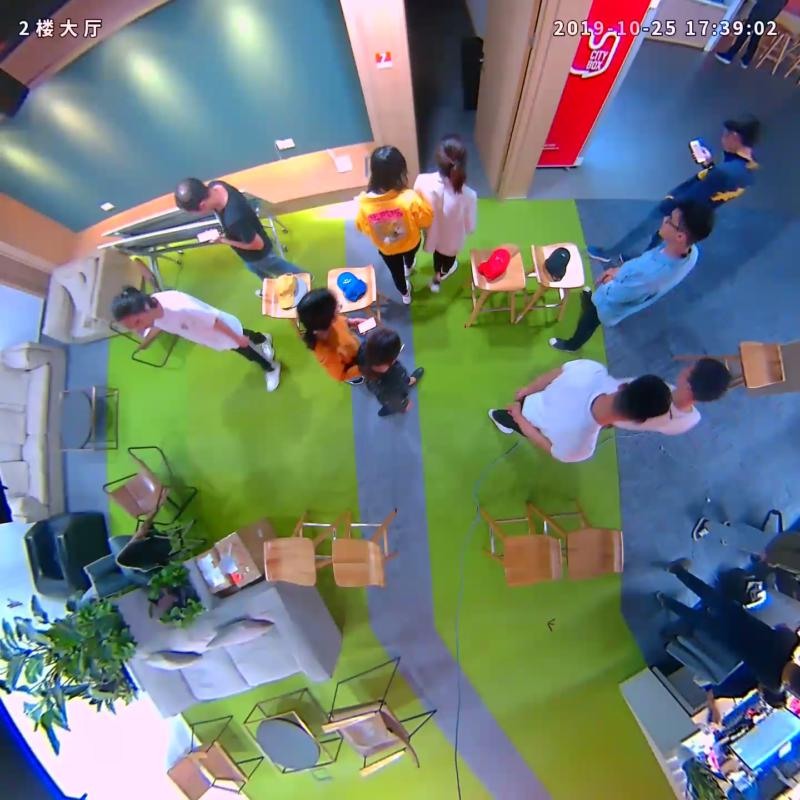head: (611, 373, 671, 425), (675, 356, 731, 404), (657, 202, 712, 242), (110, 287, 155, 332), (298, 286, 341, 332), (361, 327, 403, 366), (173, 177, 214, 215), (722, 111, 759, 153), (369, 145, 405, 185), (434, 134, 468, 176)
